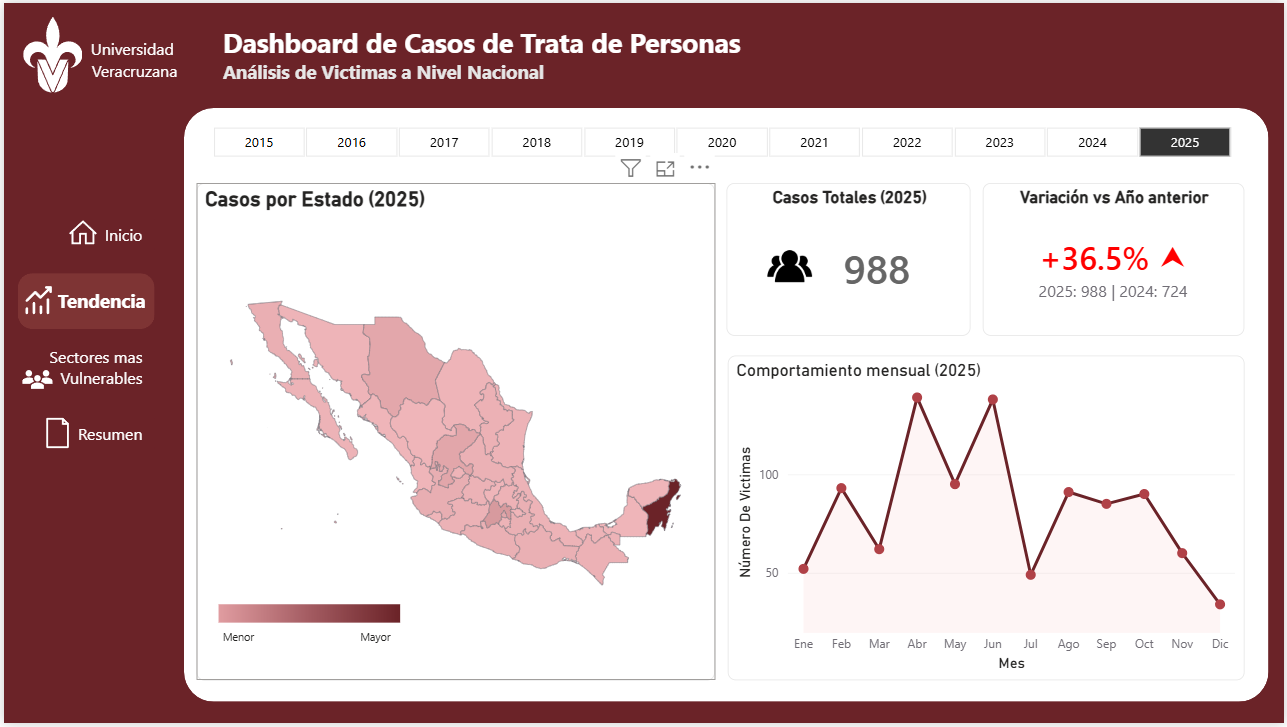

This screenshot's page, from the dashboard's own definition file:
{"tool":"powerbi","page":{"name":"Tendencia","canvas":[1280,720],"ordinal":1},"visuals":[{"type":"shape","box":[180.4,104.8,1084.5,593.6],"z":0},{"type":"slicer","fields":{"Values":["Calendario.Año"]},"box":[183.4,117.5,1066.7,43.1],"z":1000},{"type":"areaChart","fields":{"Category":["Calendario.NombreMesCorto"],"Y":["Sum(Estatal-Víctimas-2015-2025_ene2026.Numero Victimas)"]},"box":[723.3,352.2,516.7,324.4],"z":2000},{"type":"cardVisual","fields":{"Data":["Medidas.TotalCasosAño"]},"box":[722.9,180,244.3,152.9],"z":3000},{"type":"cardVisual","title":"Variación vs Año anterior","fields":{"Data":["Medidas.Variacion2"]},"box":[978.6,180,261.4,152.9],"z":4000},{"type":"shapeMap","fields":{"Value":["Sum(Estatal-Víctimas-2015-2025_ene2026.Numero Victimas)"],"Category":["Estatal-Víctimas-2015-2025_ene2026.Estado_Limpio"]},"box":[192.3,180,518.7,497.5],"z":5000},{"type":"image","box":[0,13.8,97.5,76.2],"z":6000},{"type":"textbox","box":[61.4,30,138.6,62.9],"z":7000},{"type":"textbox","box":[213.3,16.7,550,78.3],"z":8000},{"type":"pageNavigator","box":[13.3,204.3,145.7,224.7],"z":9000},{"type":"image","box":[35.4,324.6,29.8,42.7],"z":10000},{"type":"image","box":[35.5,271.8,31.8,29.1],"z":11000},{"type":"image","box":[77.3,212.7,32.2,30.6],"z":12000},{"type":"image","box":[53.2,366.5,40.3,70.9],"z":13000},{"type":"textbox","box":[213.7,618.8,59.5,27.2],"z":14000},{"type":"textbox","box":[351.7,618.8,59.5,27.2],"z":15000},{"type":"image","box":[213.7,600.7,183.4,18.1],"z":16000}]}

Visuals, with their boxes on the page's 1280x720 design canvas (x1, y1, x2, y2). These are canvas units, not pixel positions in the 1287x727 screenshot, which may show the page scaled, cropped or inside an application window:
shape: (180,105,1265,698)
slicer - Calendario.Año: (183,118,1250,161)
areaChart - Calendario.NombreMesCorto x Sum(Estatal-Víctimas-2015-2025_ene2026.Numero Victimas): (723,352,1240,677)
cardVisual - Medidas.TotalCasosAño: (723,180,967,333)
"Variación vs Año anterior" cardVisual: (979,180,1240,333)
shapeMap - Sum(Estatal-Víctimas-2015-2025_ene2026.Numero Victimas) x Estatal-Víctimas-2015-2025_ene2026.Estado_Limpio: (192,180,711,678)
image: (0,14,98,90)
textbox: (61,30,200,93)
textbox: (213,17,763,95)
pageNavigator: (13,204,159,429)
image: (35,325,65,367)
image: (36,272,67,301)
image: (77,213,110,243)
image: (53,366,94,437)
textbox: (214,619,273,646)
textbox: (352,619,411,646)
image: (214,601,397,619)
